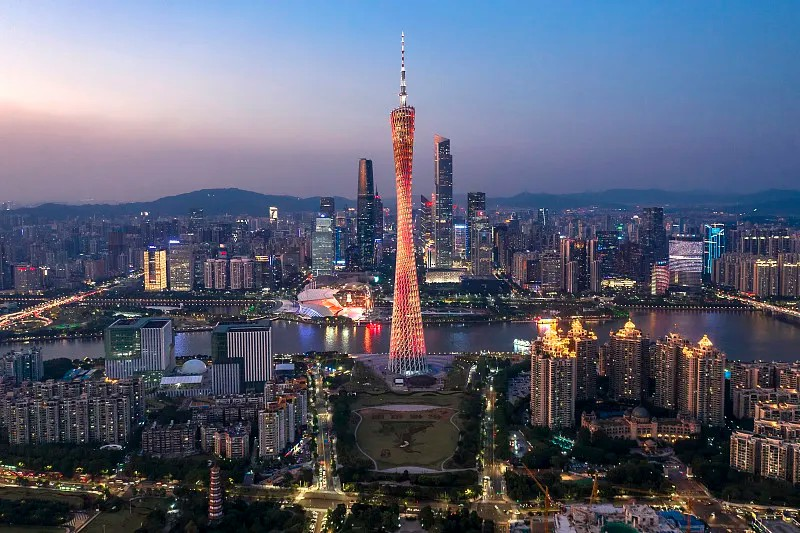Canton: (389, 31, 427, 374)
